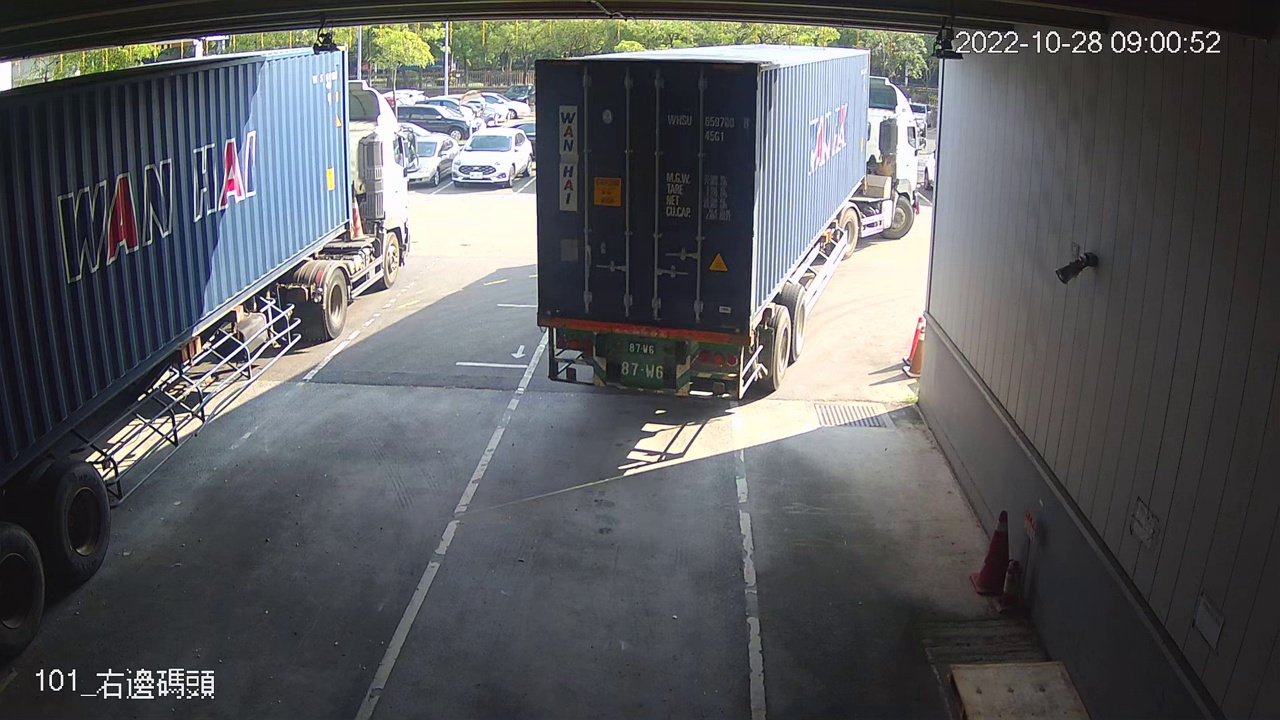container: (663, 108, 753, 146)
